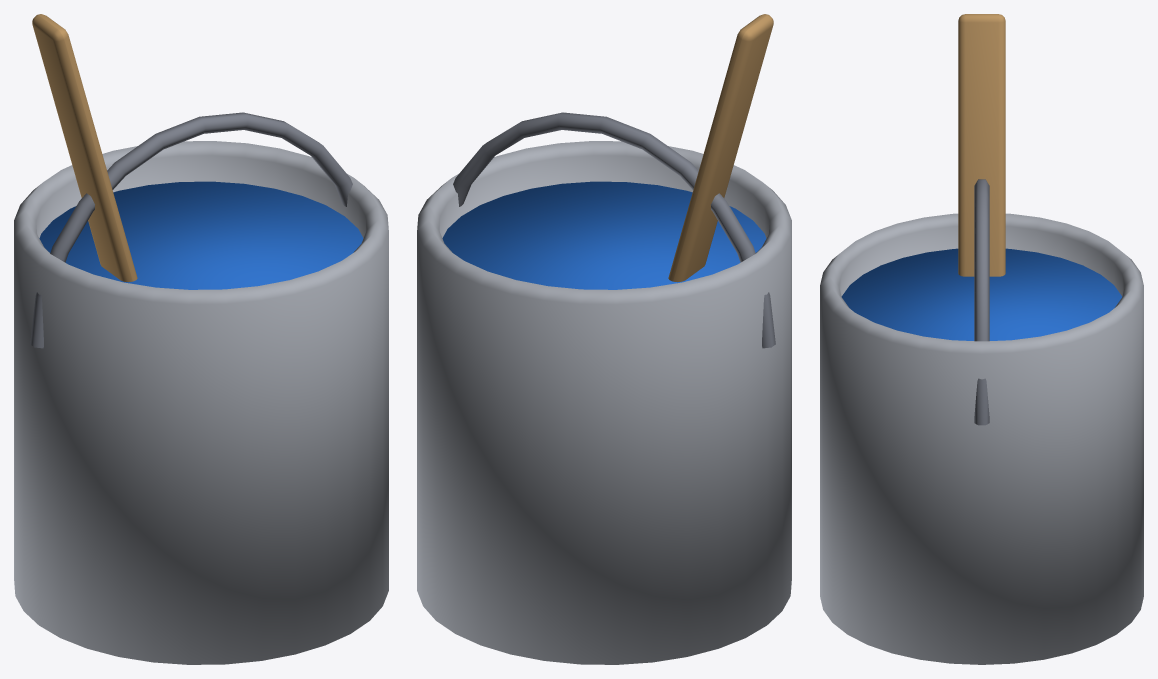
File: paint_can.glb
The picture shows the model from 3 angles, left to right: view 1: azimuth 30°, elevation 25°; view 2: azimuth 150°, elevation 25°; view 3: azimuth 270°, elevation 25°; orthographic projection. The views are drawn at different scales.
Visible parts, largest first — view 1: paint_can; view 2: paint_can; view 3: paint_can.
Boxes of the visible parts, left/top/right/bottom form: paint_can: left=14, top=14, right=388, bottom=664; paint_can: left=417, top=14, right=791, bottom=664; paint_can: left=820, top=14, right=1143, bottom=664.
Size of the model in its own units: 0.1769 by 0.3 by 0.17.
